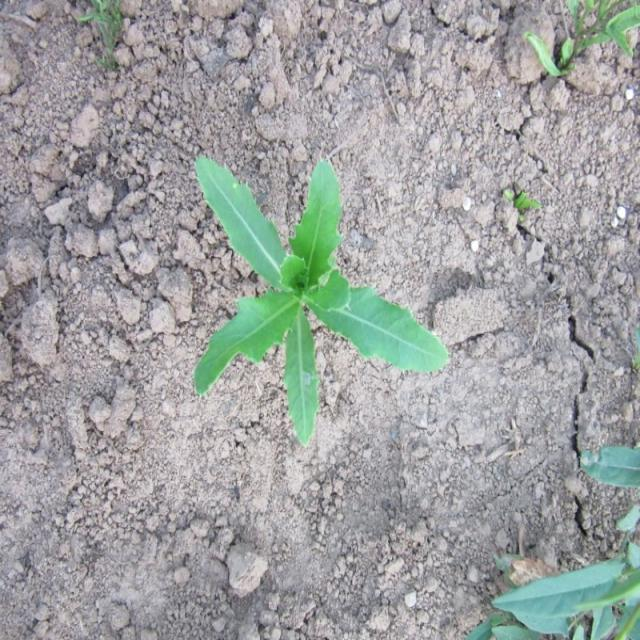cs: (191, 148, 455, 449)
